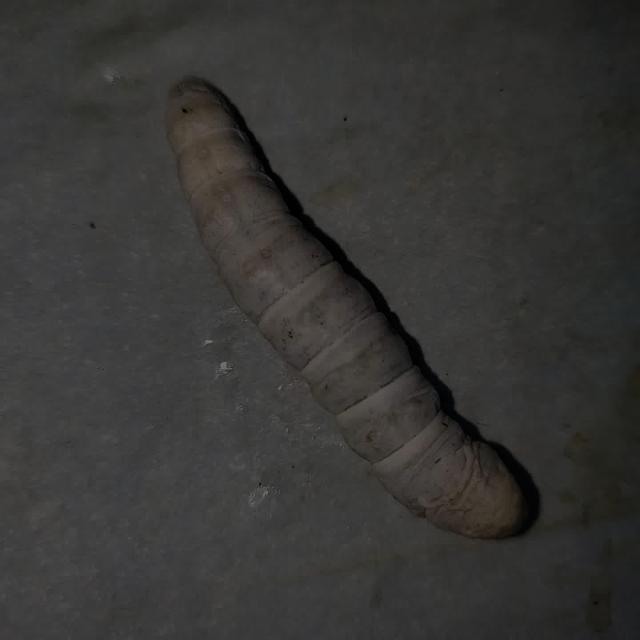Grasserie: (149, 48, 554, 551)
